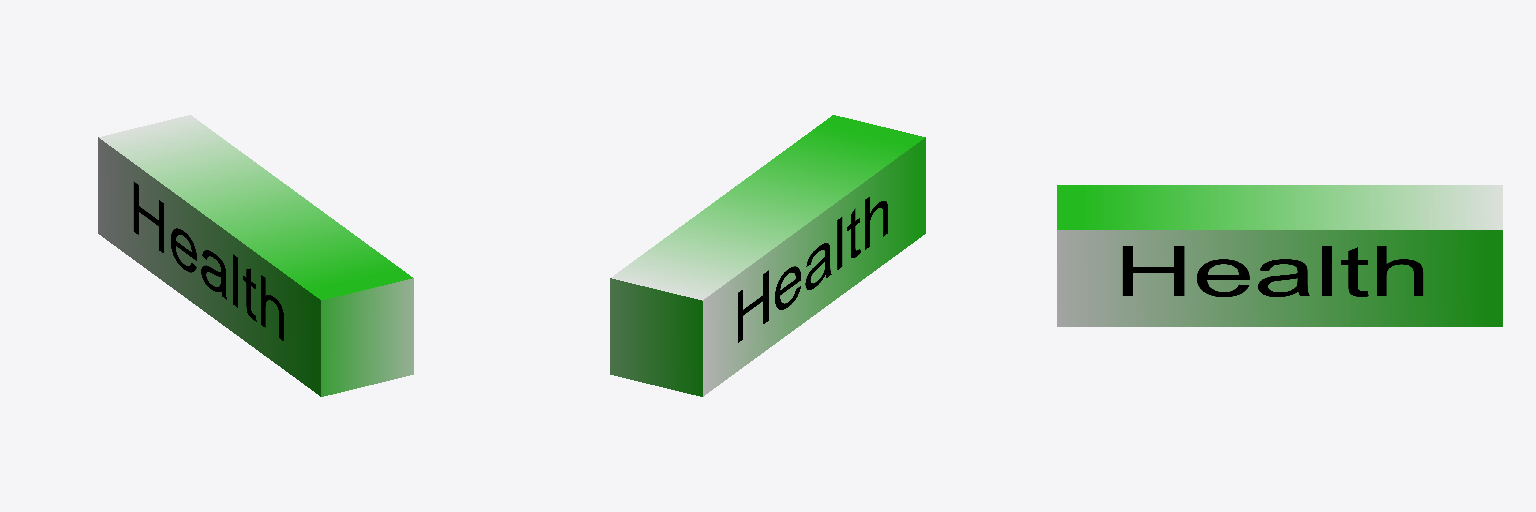
The picture shows the model from 3 angles: view 1: azimuth 30°, elevation 25°; view 2: azimuth 150°, elevation 25°; view 3: azimuth 270°, elevation 25°; orthographic projection.
Visible parts, largest first — view 1: Cube; view 2: Cube; view 3: Cube.
Boxes of the visible parts, box(x1,y1,x2,y2) form: Cube: box(98, 115, 413, 396); Cube: box(610, 115, 925, 396); Cube: box(1057, 185, 1502, 326).
Bounding box in the file's own units: 2 × 2 × 8.38.
Materials: 1 (1 with a texture image).